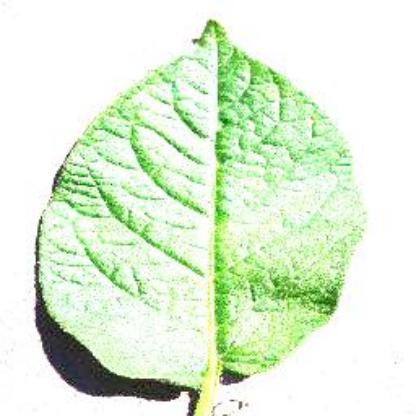Healthy-plant: (34, 18, 368, 406)
